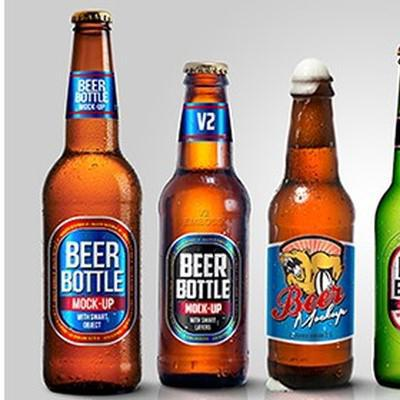beer: (42, 11, 359, 391)
